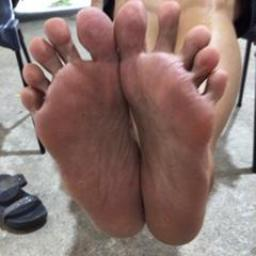Plantar View -Both Feet-: (14, 1, 235, 251)
